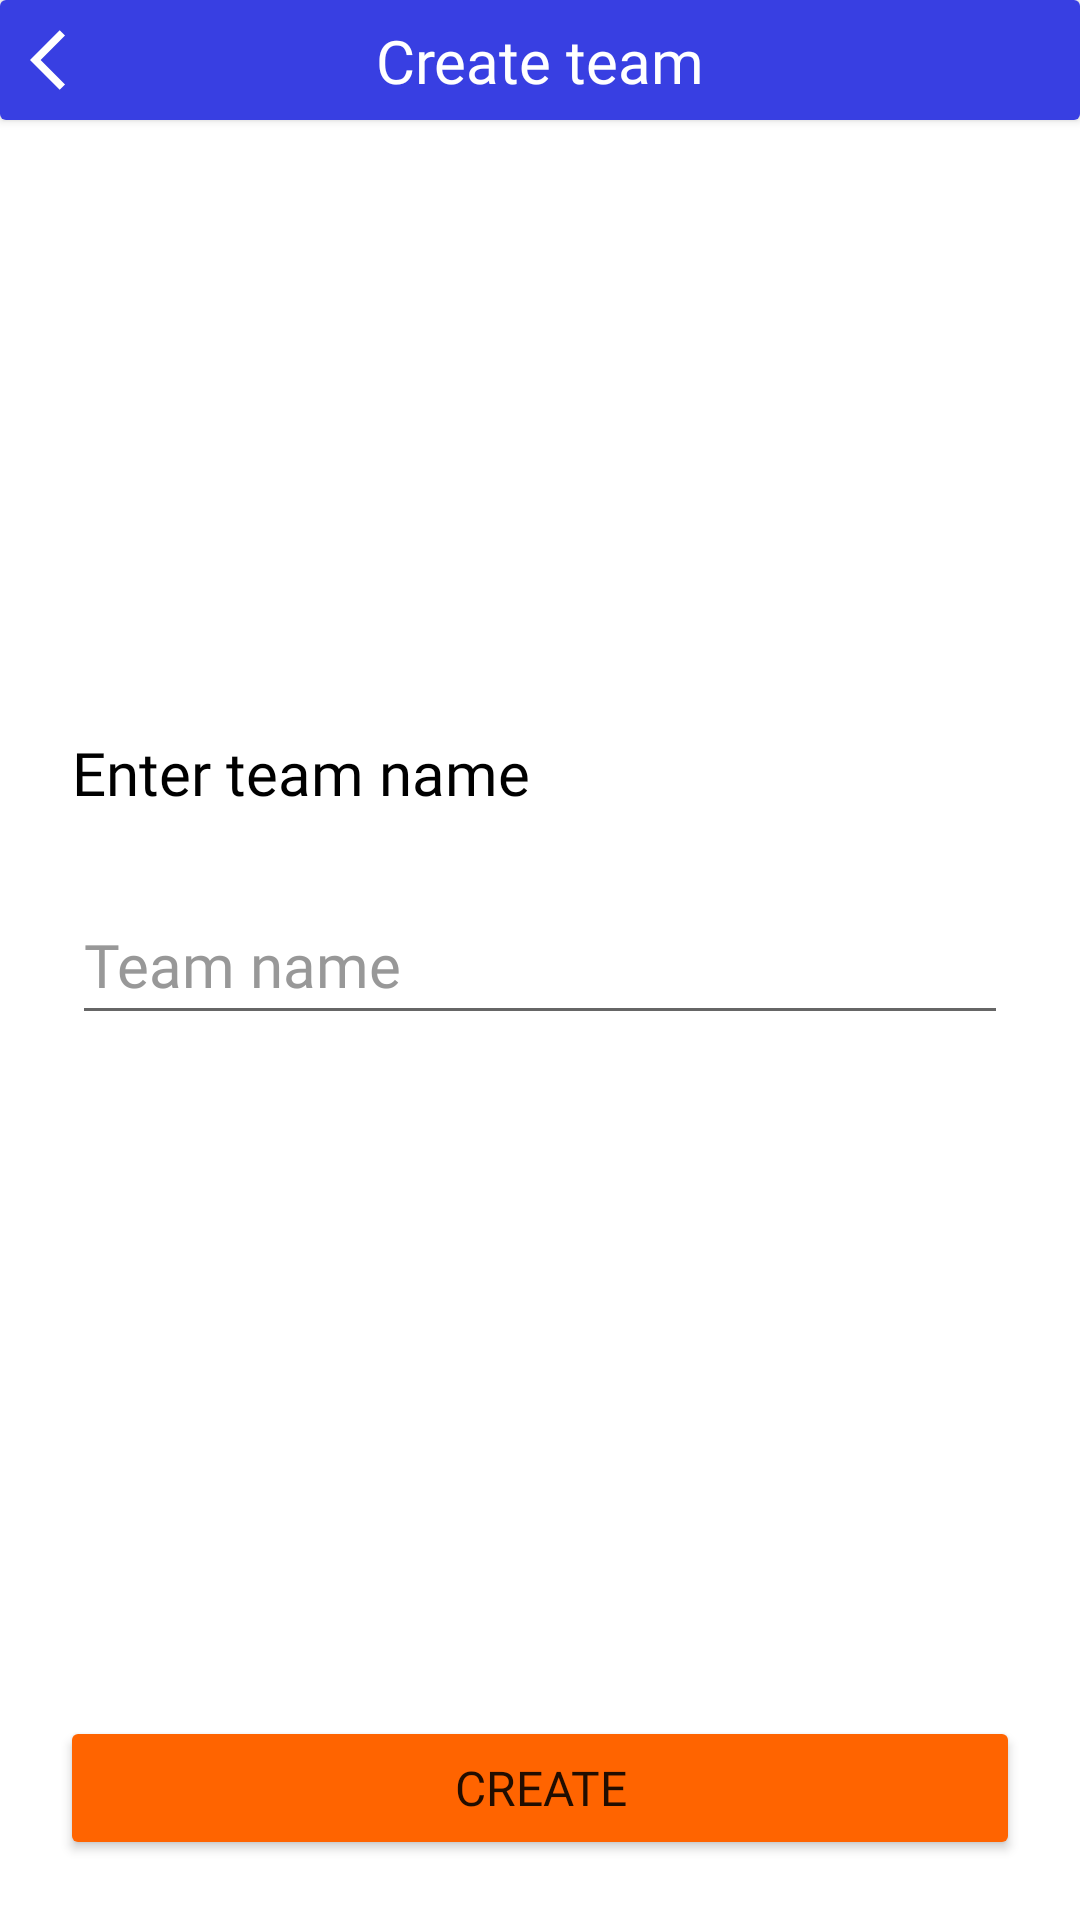

Icons on this 1080*1920 Android screen, each with its box as (x1, y1, x2, y2):
back: (30, 30, 65, 90)
